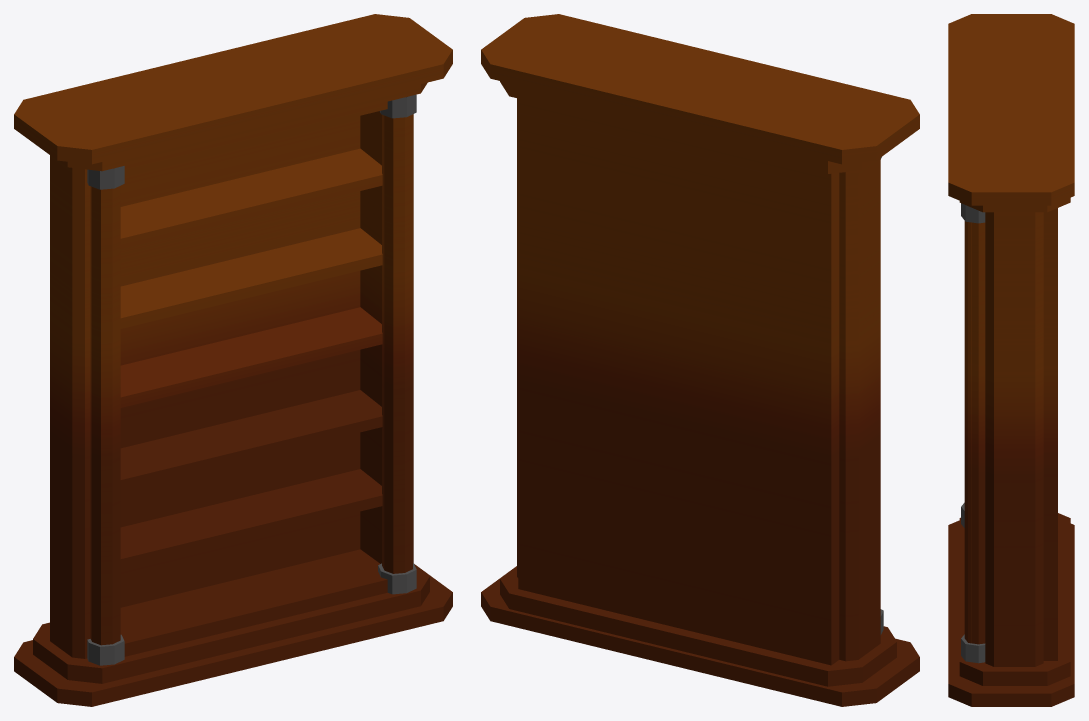
The model's file is Bookshelf 01.c.fbx.
3 renders of one model, left to right at view 1: azimuth 30°, elevation 25°; view 2: azimuth 150°, elevation 25°; view 3: azimuth 270°, elevation 25°, orthographic. The views are drawn at different scales.
Parts seen in each view (by area): view 1: Bookshelf 01.c; view 2: Bookshelf 01.c; view 3: Bookshelf 01.c.
Boxes of the visible parts, x1,y1,x2,y2 form: Bookshelf 01.c: (14,14,452,706); Bookshelf 01.c: (481,14,919,706); Bookshelf 01.c: (948,14,1074,706).
Bounding box in the file's own units: 199 × 267 × 59.62.
